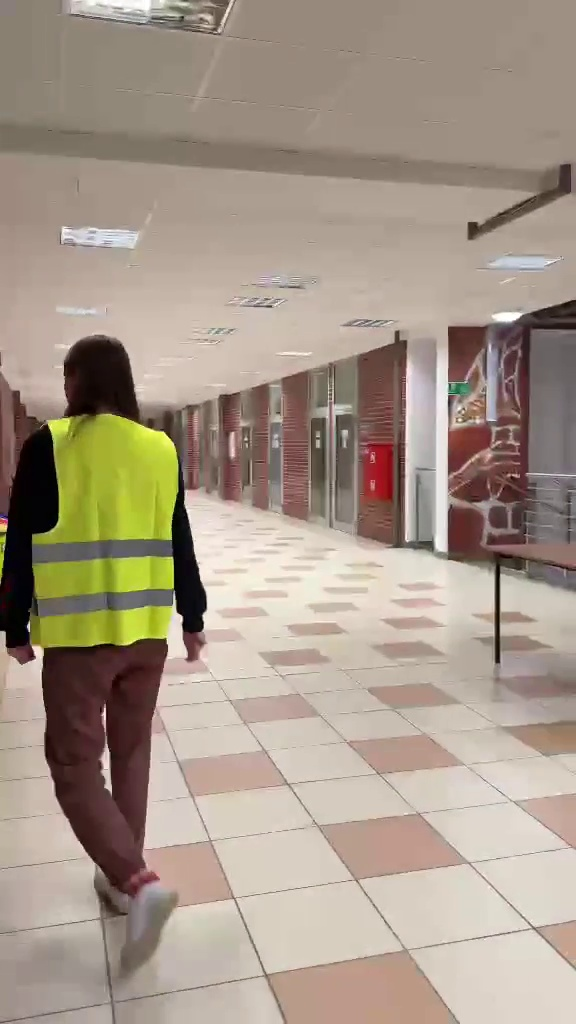vest: (6, 329, 216, 964)
